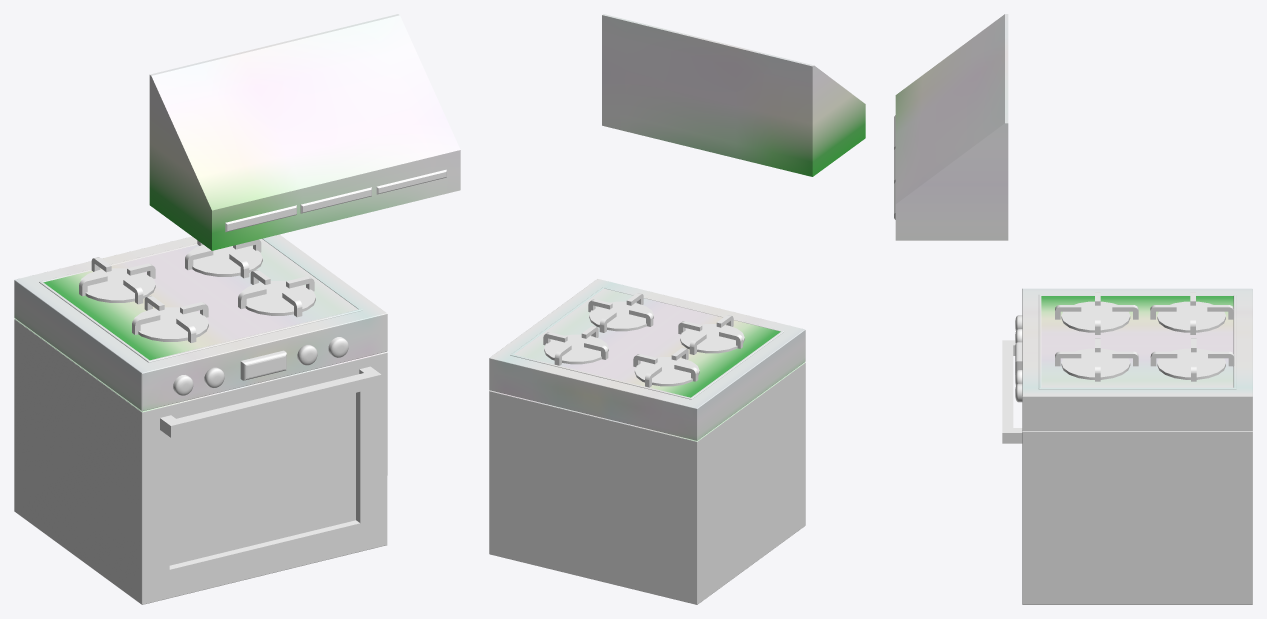
The model's file is OvenKitchen.fbx.
3 views of the same model, side by side, from view 1: azimuth 30°, elevation 25°; view 2: azimuth 150°, elevation 25°; view 3: azimuth 270°, elevation 25° (orthographic). The views are drawn at different scales.
Visible parts, largest first — view 1: Cube.019, Cube.001; view 2: Cube.019, Cube.001; view 3: Cube.019, Cube.001.
Boxes of the visible parts, x1=… form: Cube.019: x1=14, y1=234, x2=387, y2=604; Cube.001: x1=149, y1=14, x2=460, y2=250; Cube.019: x1=489, y1=279, x2=805, y2=604; Cube.001: x1=602, y1=14, x2=865, y2=176; Cube.019: x1=1002, y1=288, x2=1252, y2=604; Cube.001: x1=894, y1=14, x2=1008, y2=240.
Size of the model in its own units: 634 by 1308 by 880.
